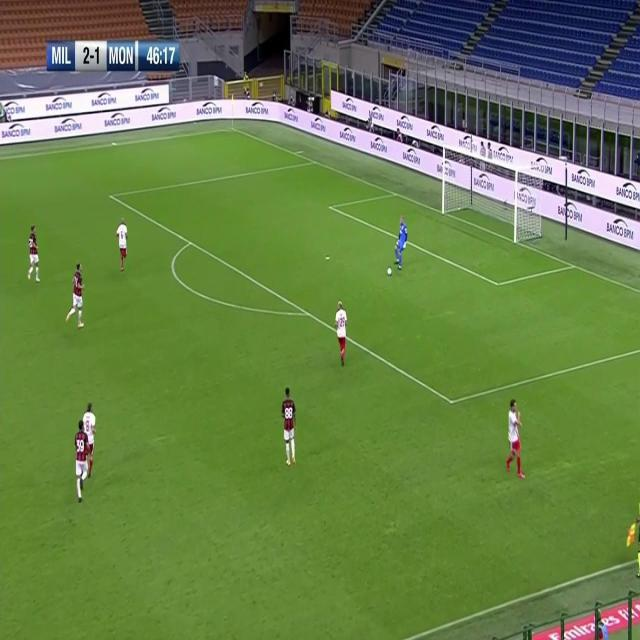ball: (386, 266, 394, 276)
player: (504, 397, 524, 478), (65, 260, 87, 332), (280, 386, 298, 470), (73, 421, 89, 503), (84, 399, 100, 477), (391, 214, 408, 271), (335, 299, 349, 368), (26, 223, 41, 286), (115, 215, 129, 274)
